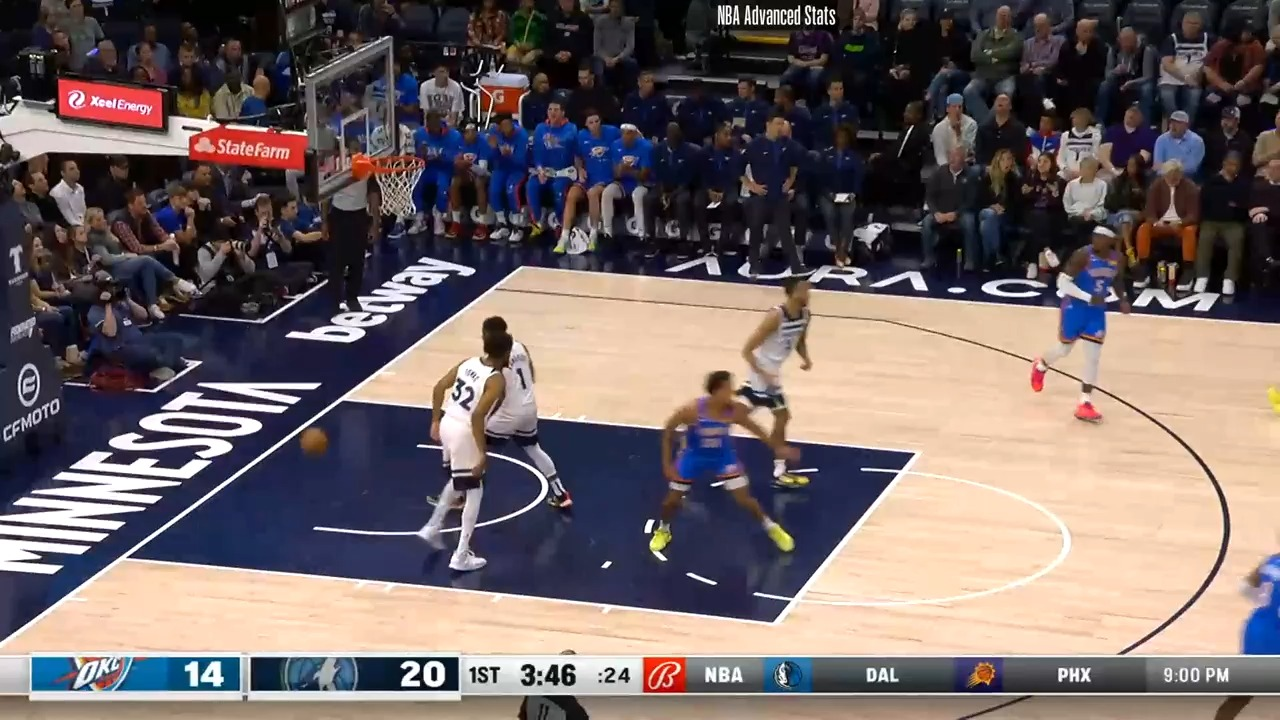net: (348, 147, 425, 214)
player: (651, 367, 795, 565), (421, 327, 509, 580), (1034, 216, 1135, 427), (719, 278, 814, 497), (486, 315, 576, 516), (1228, 523, 1280, 658)
referee: (314, 163, 376, 322)
